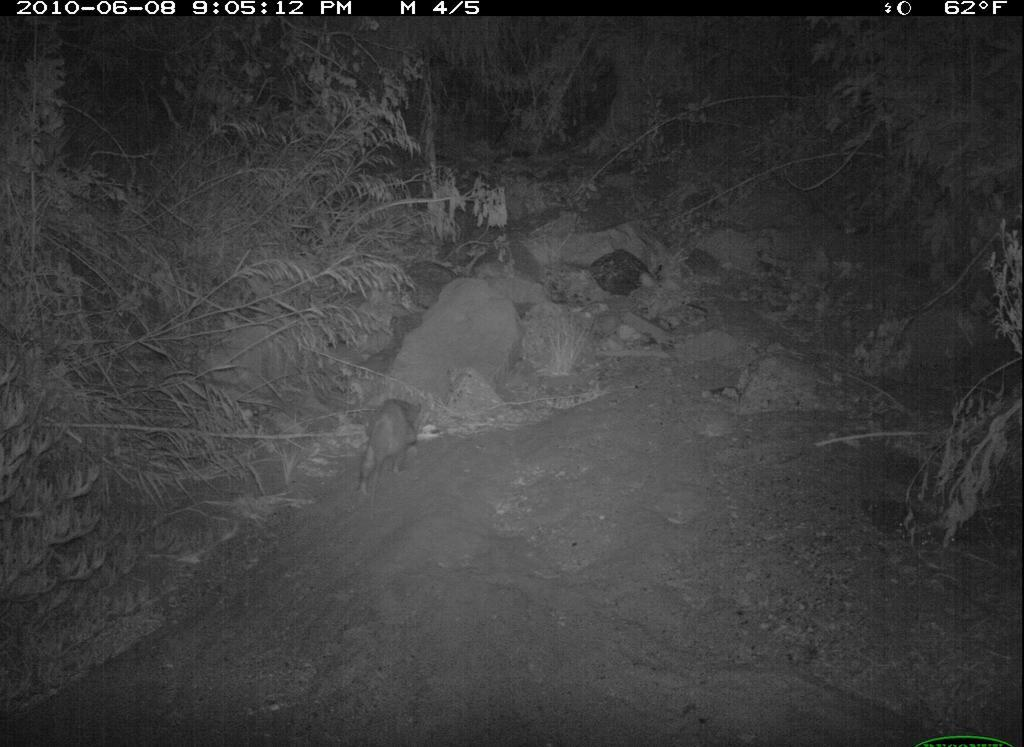opossum: (352, 393, 434, 502)
